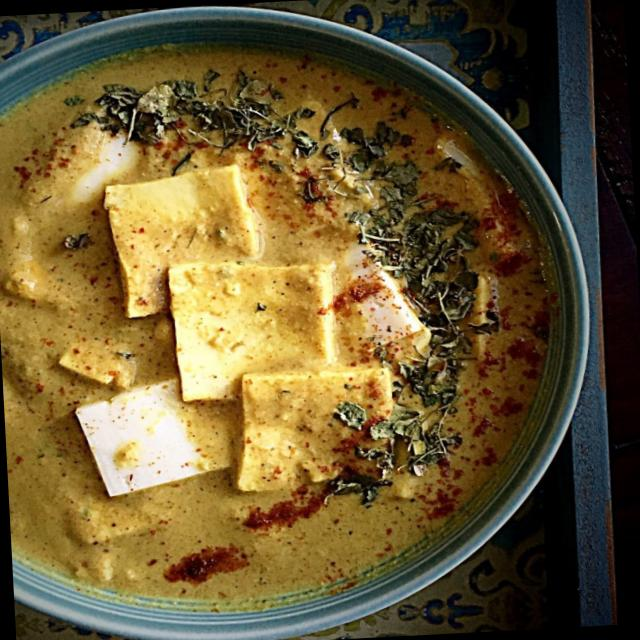ShahiPaneer: (0, 20, 574, 605)
